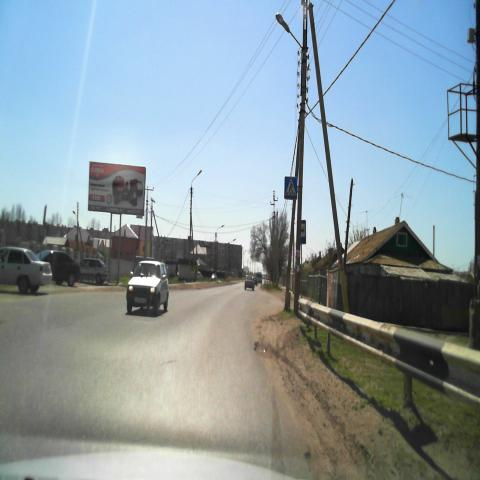5_19_1: (284, 177, 297, 199)
